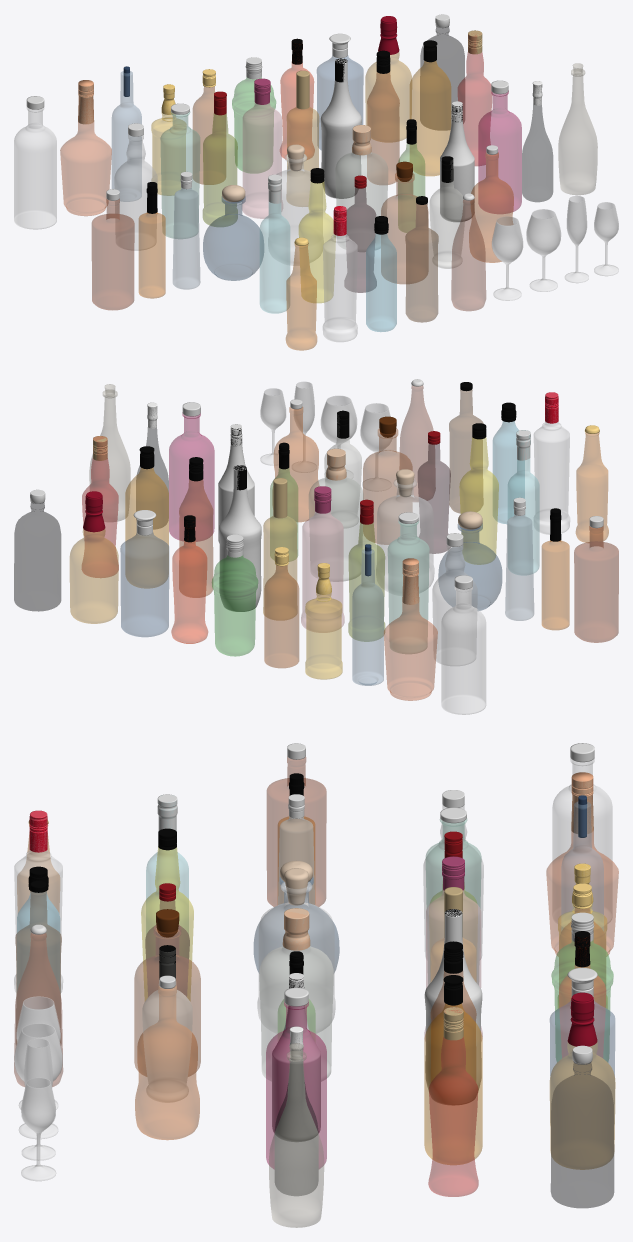
The model's file is roadhouse-bottles-ankitimation.glb.
3 renders of one model, top to bottom at view 1: azimuth 30°, elevation 25°; view 2: azimuth 150°, elevation 25°; view 3: azimuth 270°, elevation 25°, orthographic. The views are drawn at different scales.
Parts seen in each view (by area): view 1: Cylinder.056_55, Cylinder.048_45, Cylinder.038_5, Cylinder.040_3, Cylinder.002_41, Cylinder.024_19, Cylinder.032_11, Cylinder.053_49, Cylinder.018_25, Cylinder.010_33, Cylinder.006_37, Cylinder_43 (+37 smaller); view 2: Cylinder.040_3, Cylinder.056_55, Cylinder.038_5, Cylinder.069_69, Cylinder.032_11, Cylinder.081_82, Cylinder.048_45, Cylinder.018_25, Cylinder.053_49, Cylinder.006_37, Cylinder.010_33, Cylinder_43 (+37 smaller); view 3: Cylinder.081_82, Cylinder.018_25, Cylinder.034_9, Cylinder.068_67, Cylinder.038_5, Cylinder.057_57, Cylinder.010_33, Cylinder.012_31, Cylinder.040_3, Cylinder.052_47, Cylinder.036_7, Cylinder.048_45 (+40 smaller).
Boxes of the visible parts, x1,y1,x2,y2 form: Cylinder.056_55: (14, 108, 56, 229); Cylinder.048_45: (478, 91, 521, 213); Cylinder.038_5: (268, 154, 323, 265); Cylinder.040_3: (335, 125, 387, 251); Cylinder.002_41: (160, 112, 199, 238); Cylinder.024_19: (381, 173, 428, 283); Cylinder.032_11: (92, 199, 134, 310); Cylinder.053_49: (60, 80, 111, 215); Cylinder.018_25: (410, 61, 450, 175); Cylinder.010_33: (320, 58, 361, 198); Cylinder.006_37: (242, 103, 282, 218); Cylinder_43: (114, 134, 157, 250); Cylinder.040_3: (309, 449, 363, 581); Cylinder.056_55: (441, 587, 485, 714); Cylinder.038_5: (376, 479, 434, 595); Cylinder.069_69: (120, 533, 168, 636); Cylinder.032_11: (574, 526, 618, 642); Cylinder.081_82: (14, 501, 60, 611); Cylinder.048_45: (169, 413, 214, 541); Cylinder.018_25: (125, 468, 168, 588); Cylinder.053_49: (384, 558, 437, 700); Cylinder.006_37: (301, 511, 344, 632); Cylinder.010_33: (218, 465, 261, 611); Cylinder_43: (432, 545, 477, 665); Cylinder.081_82: (551, 1061, 613, 1207); Cylinder.018_25: (424, 1003, 482, 1164); Cylinder.034_9: (135, 985, 199, 1139); Cylinder.068_67: (550, 1042, 615, 1169); Cylinder.038_5: (257, 881, 335, 1033); Cylinder.057_57: (269, 1051, 323, 1227); Cylinder.010_33: (424, 909, 482, 1105); Cylinder.012_31: (428, 1007, 478, 1196); Cylinder.040_3: (259, 908, 333, 1081); Cylinder.052_47: (272, 973, 320, 1141); Cylinder.036_7: (142, 950, 192, 1102); Cylinder.048_45: (266, 1002, 326, 1168).
Bounding box in the file's own units: 3.74 × 0.9454 × 2.8.
